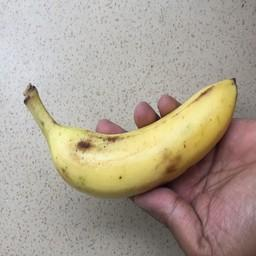Banana Ripe: (7, 70, 256, 197)
